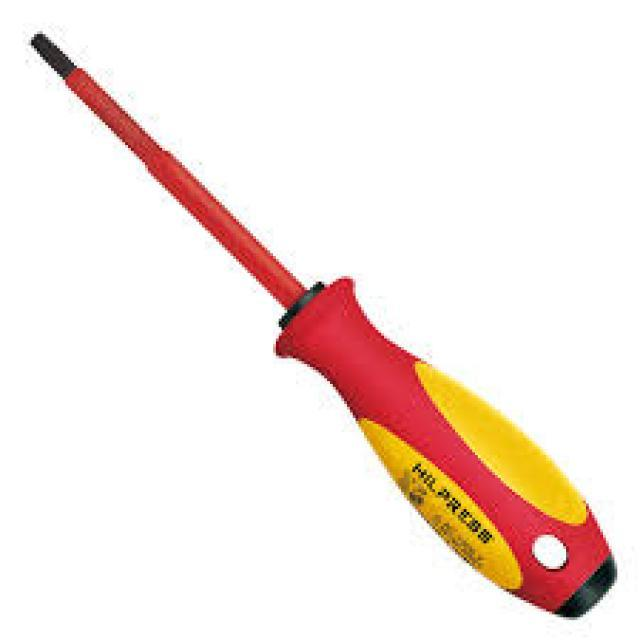screwdriver: (24, 26, 622, 624)
